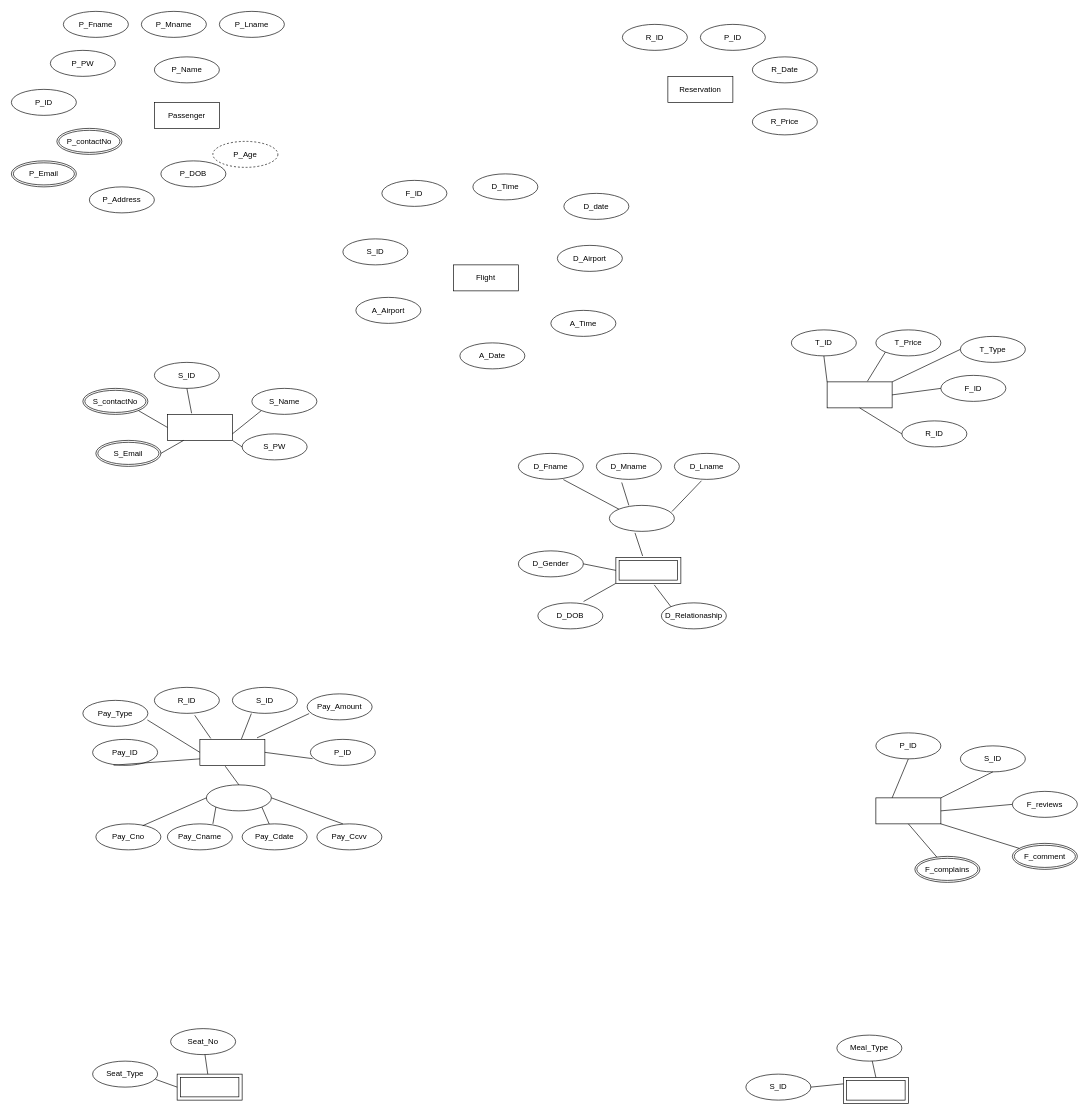
Some shapes in this 1089 by 1115 pixel diagram are drawn without their labels. Here are the shapes that lost their labels. From the top down, the centre of each, then its label:
[859,394]: Ticket
[199,427]: Staff
[641,518]: D_Name
[648,570]: Dependent
[232,752]: Payment
[238,797]: Pay_Card
[908,810]: Feedback
[209,1086]: Seat
[875,1090]: Meal
